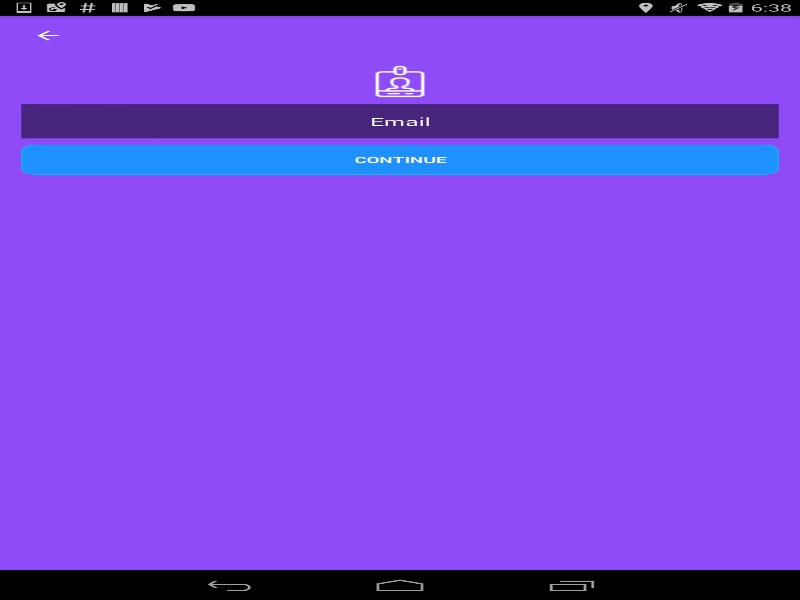Button: (21, 144, 778, 174), (10, 15, 85, 55)
Input: (21, 104, 778, 138)
